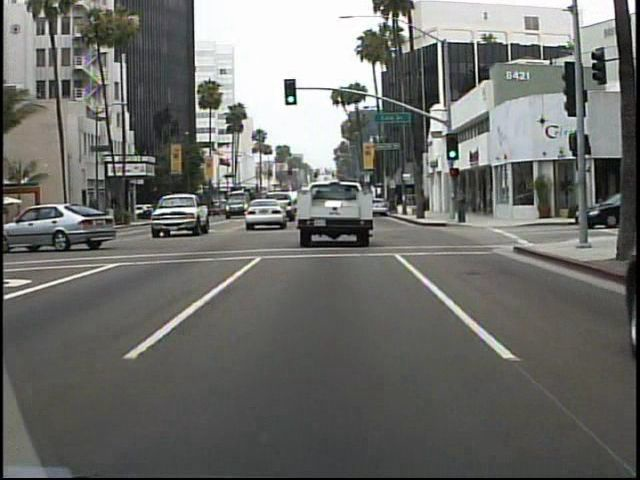person: (452, 181, 470, 226)
